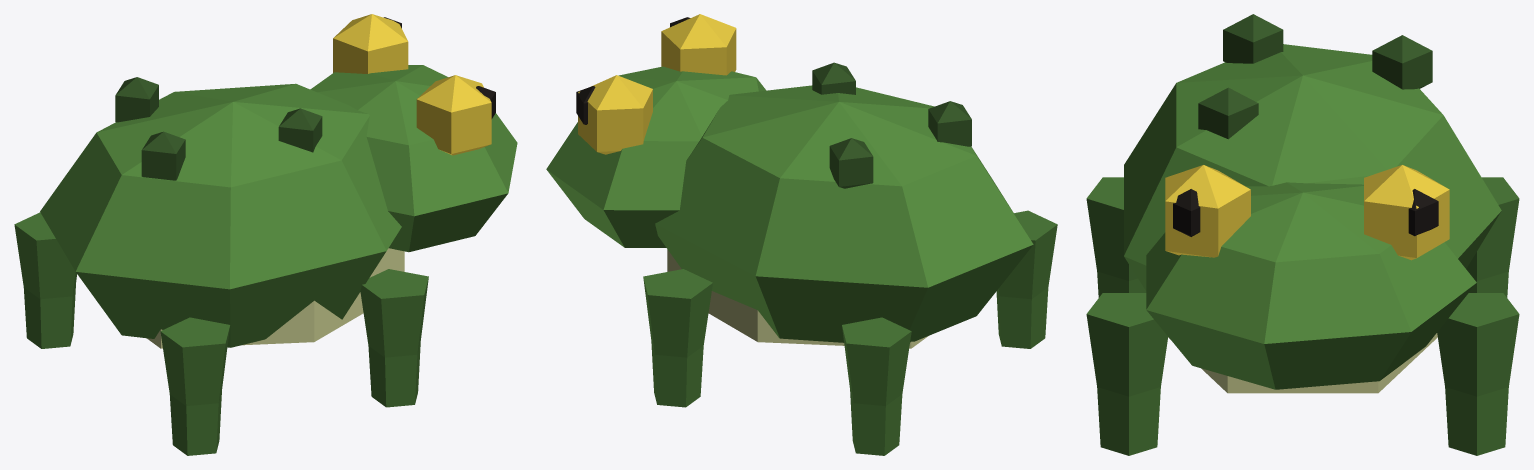
File: frog.glb
The picture shows the model from 3 angles, left to right: view 1: azimuth 30°, elevation 25°; view 2: azimuth 150°, elevation 25°; view 3: azimuth 270°, elevation 25°; orthographic projection. The views are drawn at different scales.
Visible parts, largest first — view 1: body, head, leg_br, leg_fr, leg_bl; view 2: body, head, leg_fl, leg_bl, leg_br; view 3: head, body, leg_fl, leg_fr, leg_br, leg_bl.
Boxes of the visible parts, left/top/right/bottom form: body: left=40, top=77, right=404, bottom=348; head: left=310, top=14, right=517, bottom=252; leg_br: left=160, top=317, right=230, bottom=455; leg_fr: left=360, top=269, right=428, bottom=407; leg_bl: left=14, top=212, right=76, bottom=348; body: left=655, top=62, right=1033, bottom=348; head: left=546, top=14, right=766, bottom=247; leg_fl: left=643, top=269, right=712, bottom=407; leg_bl: left=842, top=317, right=911, bottom=455; leg_br: left=996, top=210, right=1057, bottom=348; head: left=1146, top=165, right=1476, bottom=389; body: left=1124, top=14, right=1501, bottom=393; leg_fl: left=1437, top=293, right=1519, bottom=455; leg_fr: left=1086, top=293, right=1167, bottom=455; leg_br: left=1086, top=177, right=1146, bottom=297; leg_bl: left=1466, top=177, right=1519, bottom=297.
Size of the model in its own units: 0.246 by 0.147 by 0.1742.
